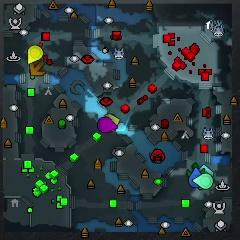p1: (189, 168, 202, 188)
p2: (192, 174, 213, 189)
p3: (97, 117, 118, 132)
p4: (28, 45, 44, 63)
x2: (103, 114, 121, 126)
x3: (198, 164, 213, 175)
x4: (187, 163, 205, 178)
x5: (29, 60, 46, 77)
